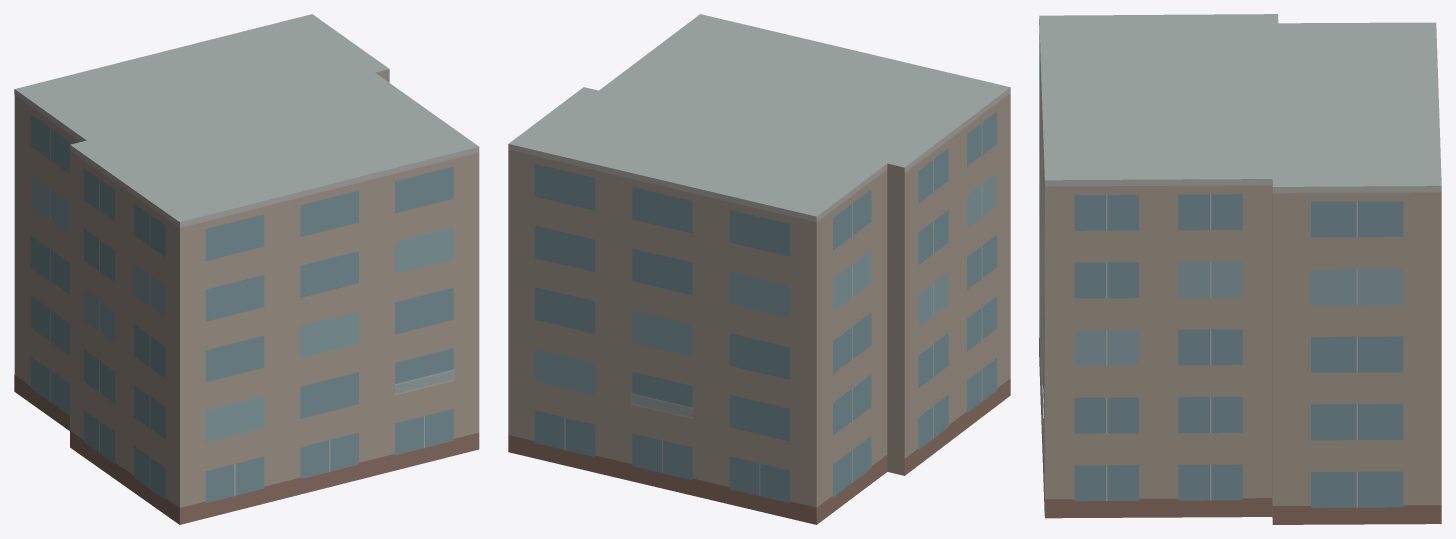
File: survey-upis-32961424.glb
The picture shows the model from 3 angles, left to right: view 1: azimuth 30°, elevation 25°; view 2: azimuth 150°, elevation 25°; view 3: azimuth 270°, elevation 25°; orthographic projection. The views are drawn at different scales.
Visible parts, largest first — view 1: survey-upis-32961424.tmp; view 2: survey-upis-32961424.tmp; view 3: survey-upis-32961424.tmp.
Boxes of the visible parts, x1,y1,x2,y2 form: survey-upis-32961424.tmp: (14,14,479,524); survey-upis-32961424.tmp: (508,14,1010,524); survey-upis-32961424.tmp: (1039,14,1441,524).
Bounding box in the file's own units: 14.39 × 13.1 × 14.16.
